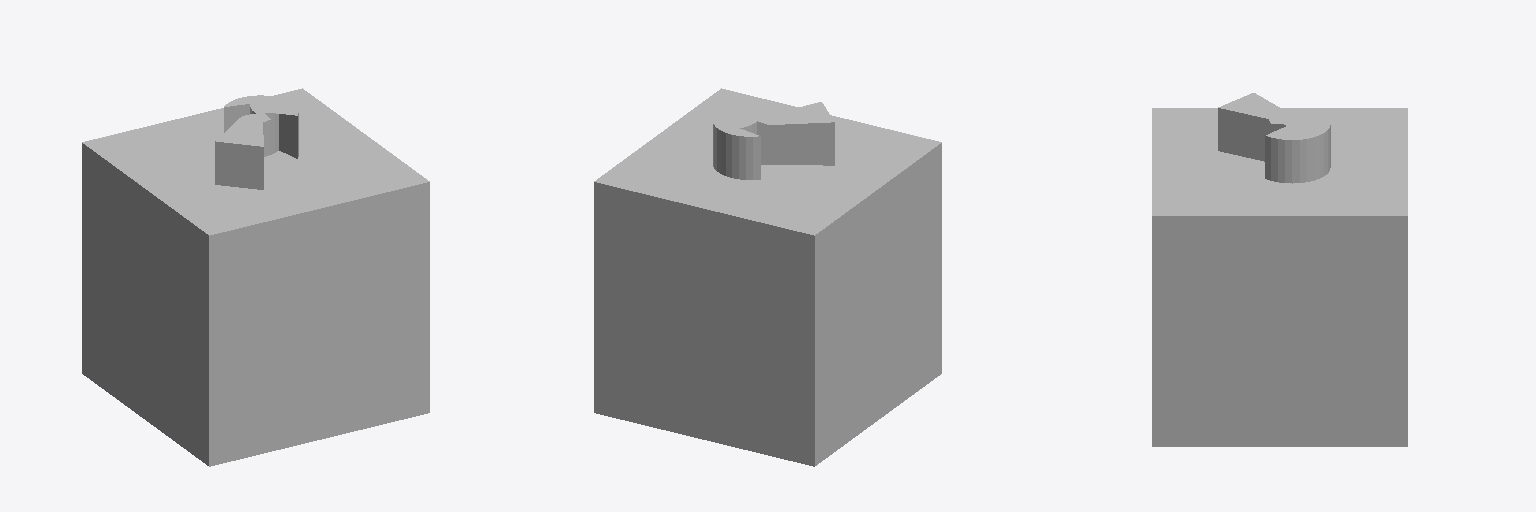
File: Key_cube_cap_rotated45_preprocessed.obj
3 views of the same model, side by side, from view 1: azimuth 30°, elevation 25°; view 2: azimuth 150°, elevation 25°; view 3: azimuth 270°, elevation 25° (orthographic).
Size of the model in its own units: 0.08 by 0.095 by 0.08.